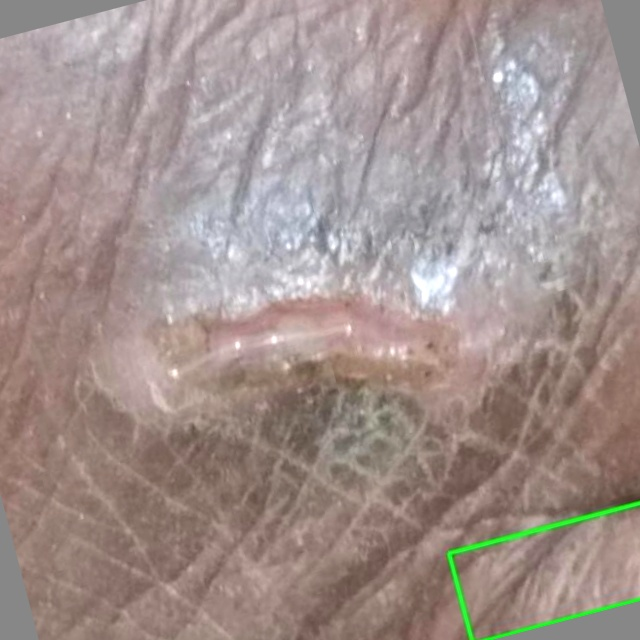Eczema: (447, 503, 639, 639)
